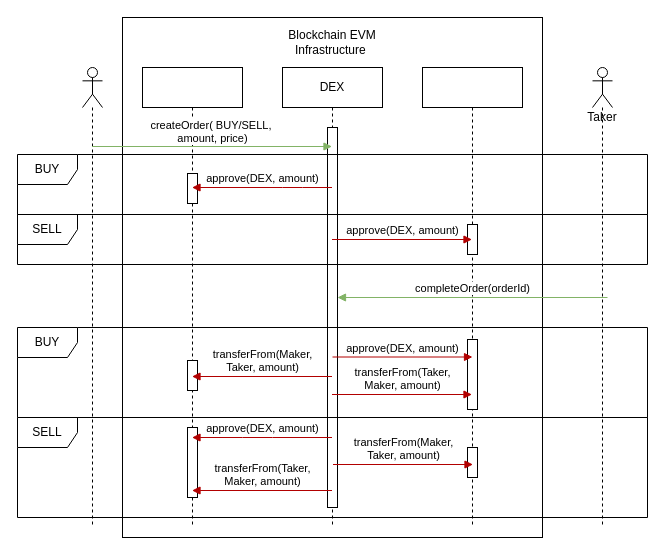
Image size: 665x555. Some labels were removed from this diagram. The box of each missing label's shape, as (x1, y1, x2, y2) in pixels:
DAI: (422, 66, 522, 528)
Maker: (82, 66, 102, 528)
WETH: (142, 66, 242, 528)
